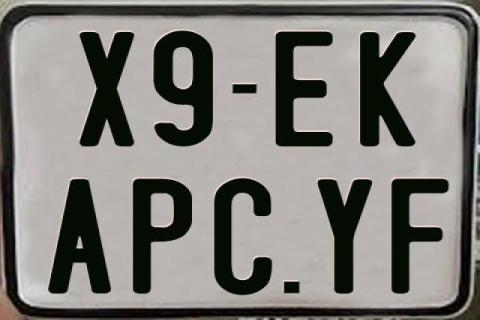0: (152, 30, 212, 146)
A: (47, 177, 111, 292)
C: (214, 178, 278, 298)
E: (275, 31, 339, 148)
F: (389, 177, 449, 297)
K: (357, 30, 416, 146)
P: (133, 178, 198, 298)
X: (79, 32, 140, 151)
Y: (314, 179, 372, 295)
